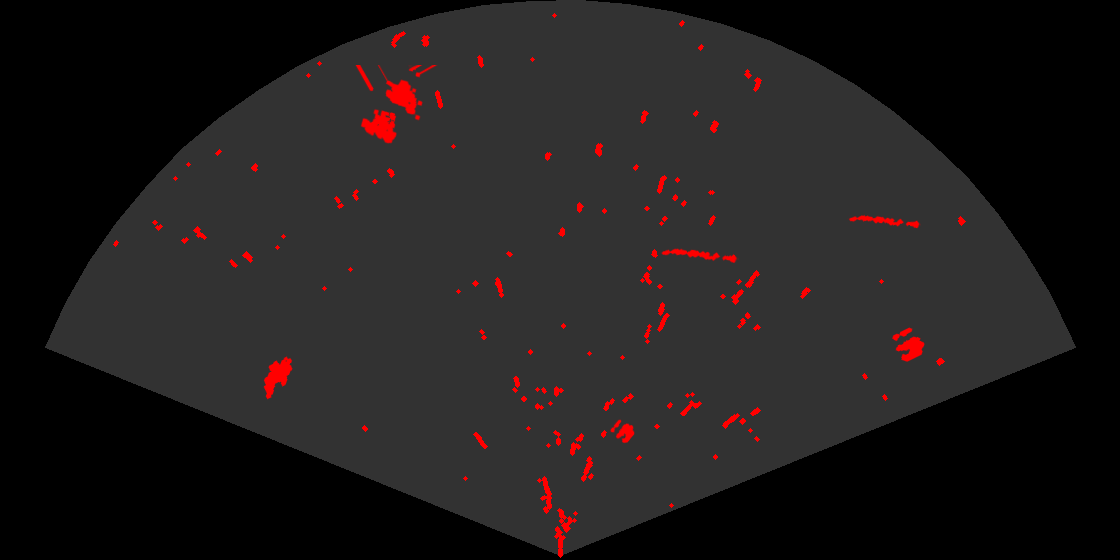AUV: (262, 355, 294, 401)
ball: (891, 326, 926, 363), (609, 418, 636, 445)
cage: (354, 65, 439, 145)
chain: (659, 247, 739, 265), (847, 213, 921, 230)
